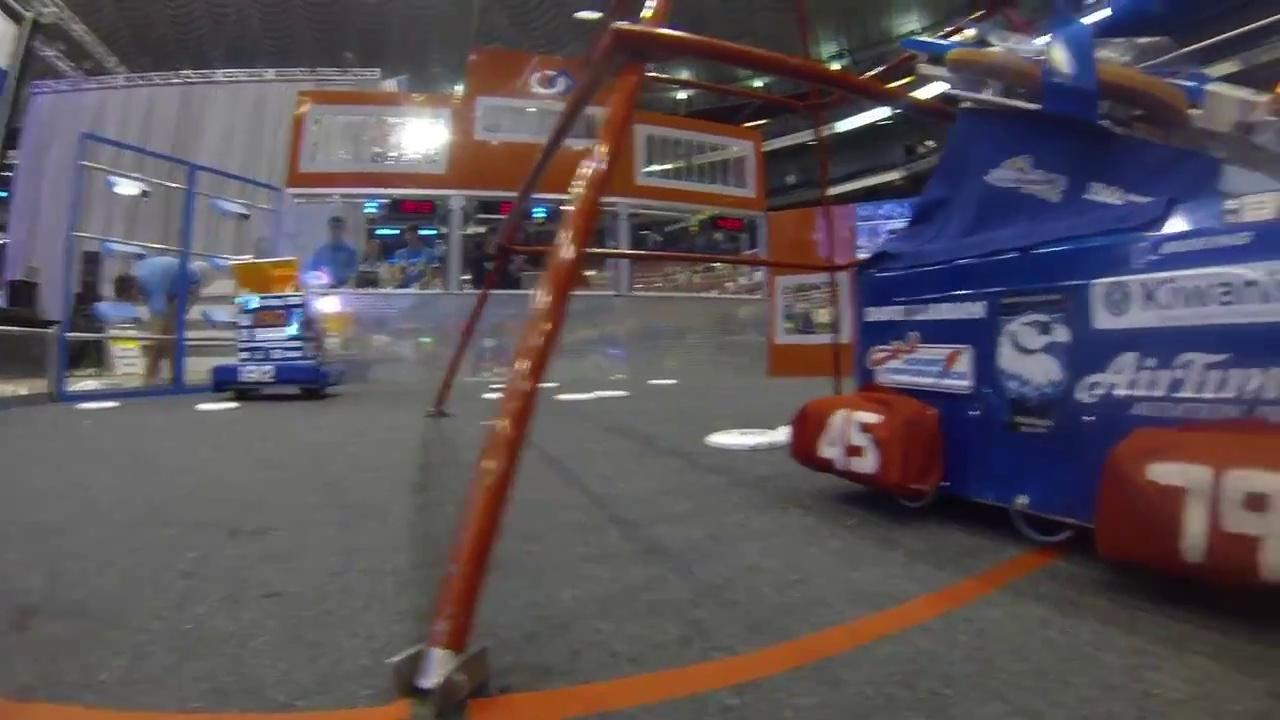robot: (780, 4, 1280, 628), (205, 253, 356, 404)
